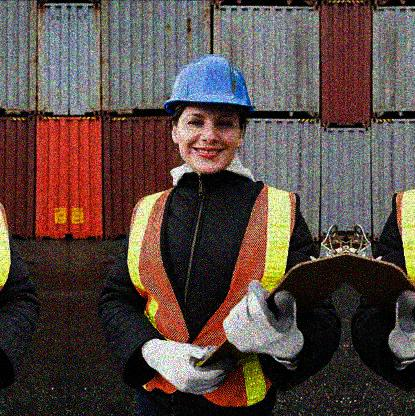helmet: (164, 55, 256, 174)
